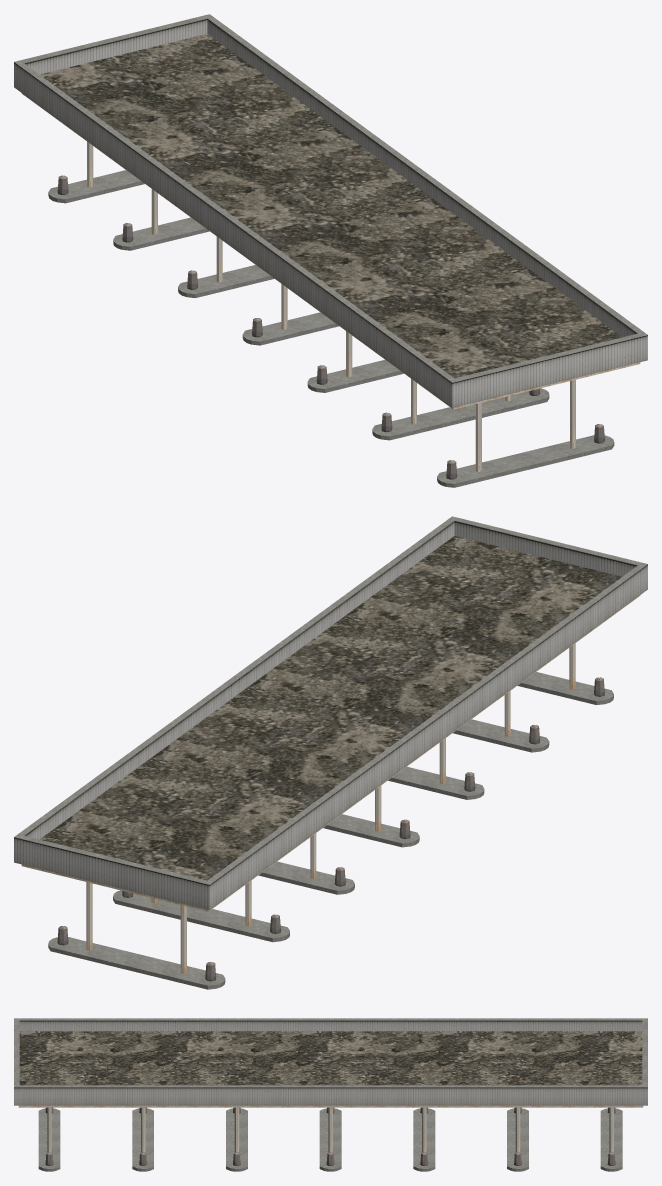
File: desn2_tscanopy.obj
The picture shows the model from 3 angles, top to bottom: view 1: azimuth 30°, elevation 25°; view 2: azimuth 150°, elevation 25°; view 3: azimuth 270°, elevation 25°; orthographic projection. The views are drawn at different scales.
Visible parts, largest first — view 1: desn2_tscanopy; view 2: desn2_tscanopy; view 3: desn2_tscanopy.
Boxes of the visible parts, x1,y1,x2,y2 form: desn2_tscanopy: (14,14,647,487); desn2_tscanopy: (14,516,647,989); desn2_tscanopy: (14,1018,647,1171).
Size of the model in its own units: 10.47 by 6.25 by 40.6.
Materials: 6 (6 with a texture image).
